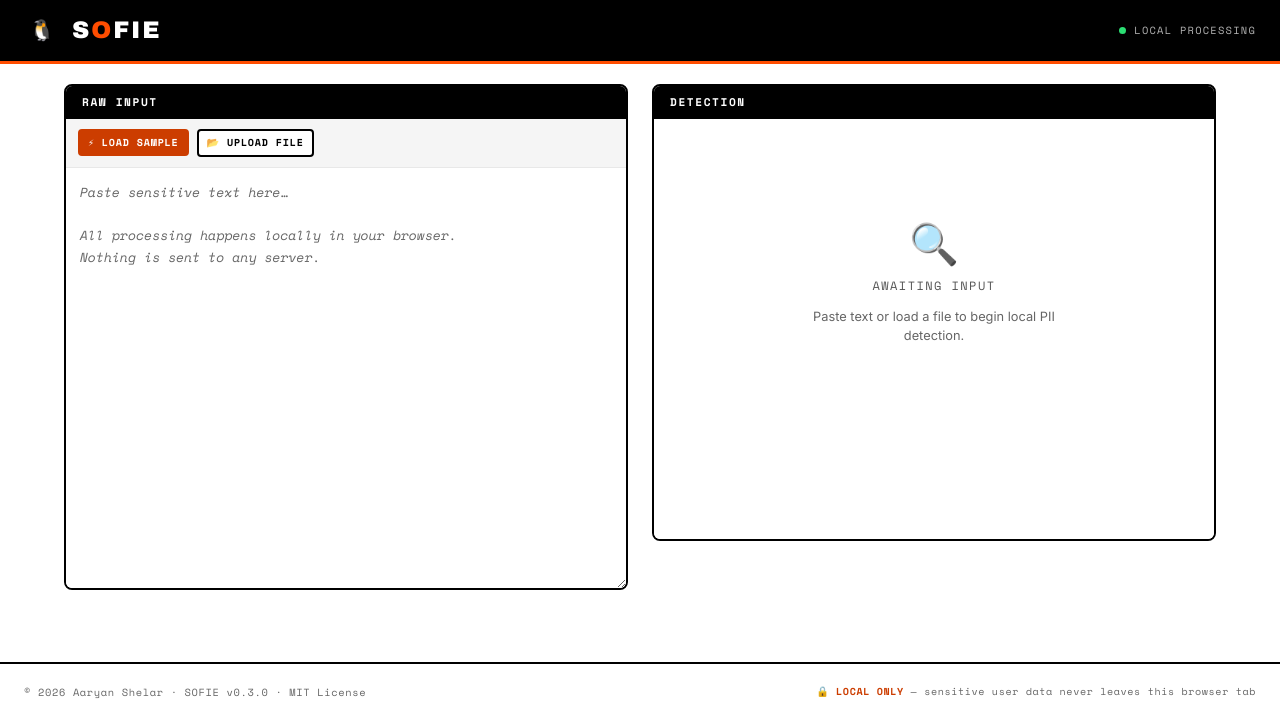
Test: SOFIE Phase 2 UI › 26. Clearing the document invalidates detections and removes export actions
This screenshot has width=1280, height=720.
(page scrolled)
Replace the text in the text box with test id "text-input" with "User: user@example.com". click: [346, 378]
box: [66,168,626,588]
Wait 300 ms
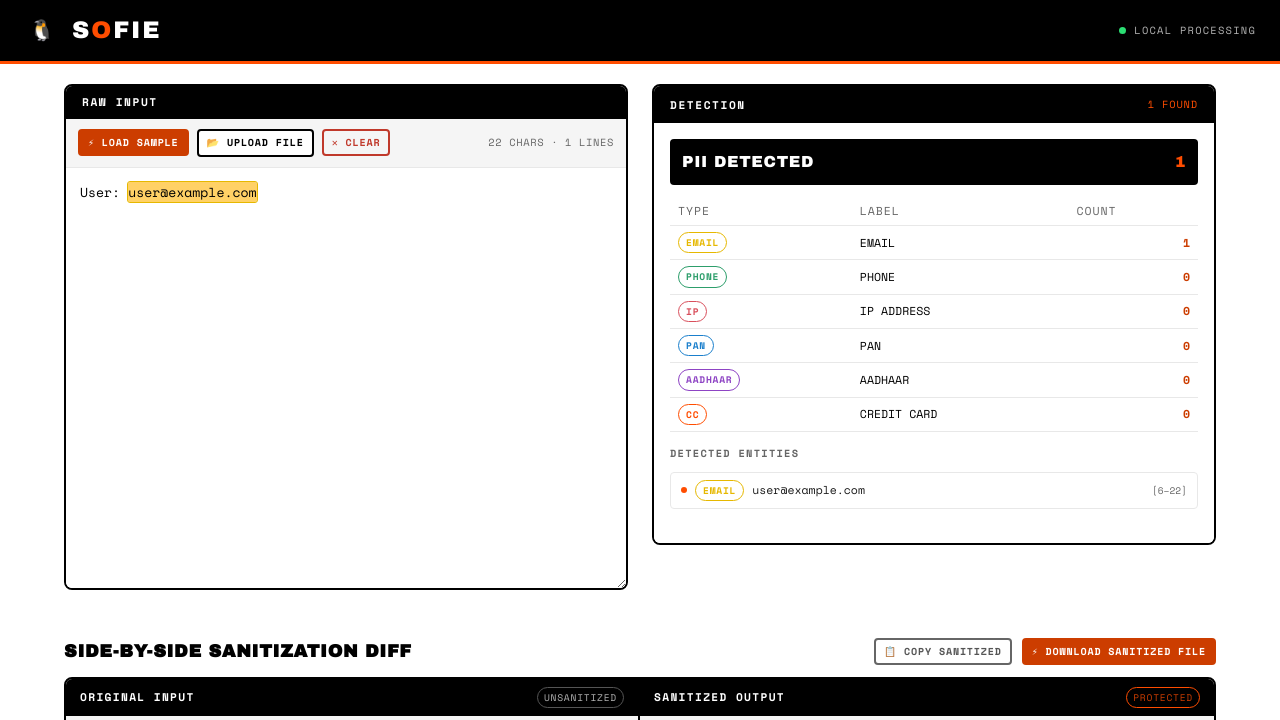
Click the button with test id "clear-btn". click: [356, 143]
box: [322,129,390,156]
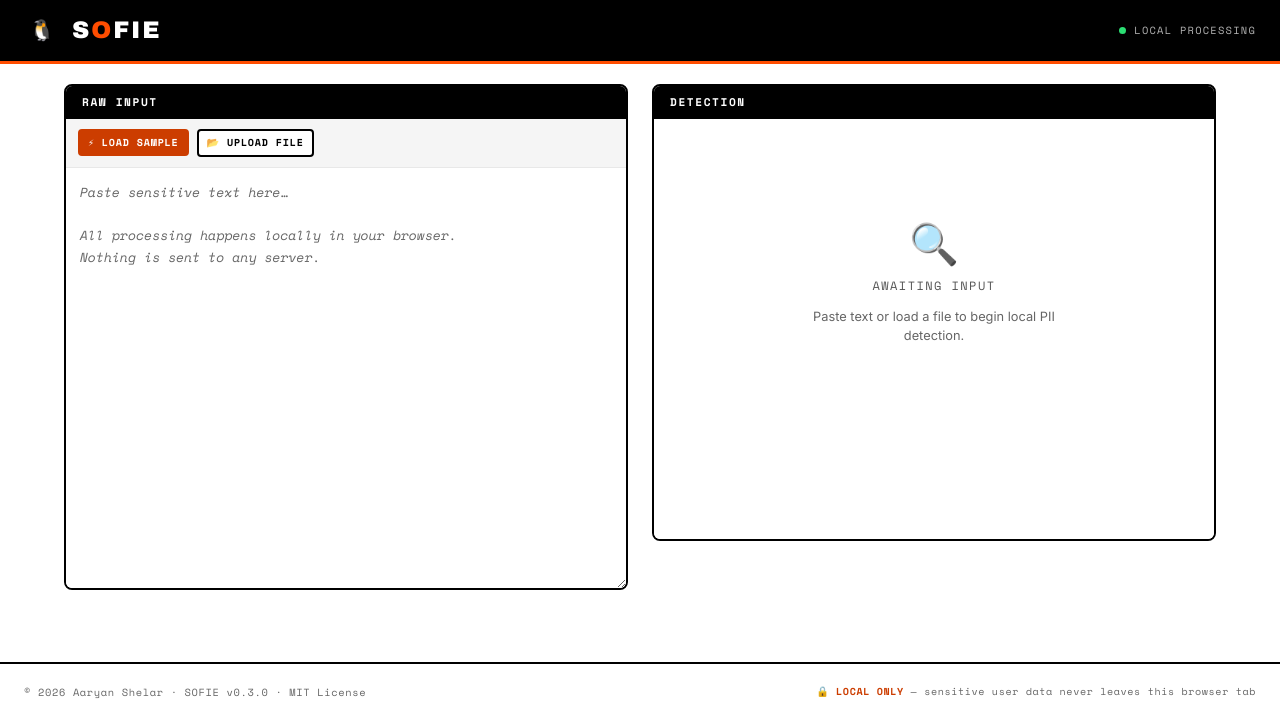
Expected: the text box with test id "text-input" is empty, [66,168,626,588]
Expected: no list items with test id "entity-item" are shown
Expected: the button with test id "download-btn" is gone
